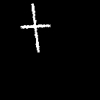single_crochet: (21, 4, 49, 51)
